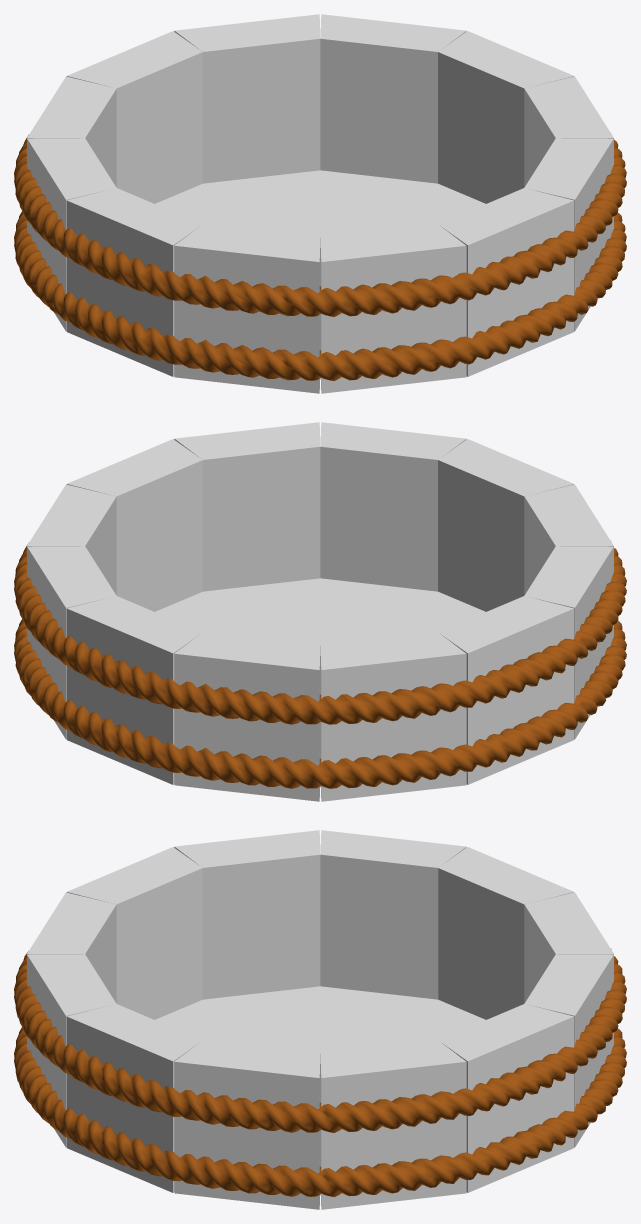
File: sushi_oke.fbx
3 renders of one model, top to bottom at view 1: azimuth 30°, elevation 25°; view 2: azimuth 150°, elevation 25°; view 3: azimuth 270°, elevation 25°, orthographic.
Parts seen in each view (by area): view 1: 円; view 2: 円; view 3: 円.
Part boxes in pixels (box(x1,y1,x2,y2)): 円: box(14, 14, 626, 393); 円: box(14, 422, 626, 801); 円: box(14, 830, 626, 1209).
Bounding box in the file's own units: 2.11 × 0.5 × 2.11.
